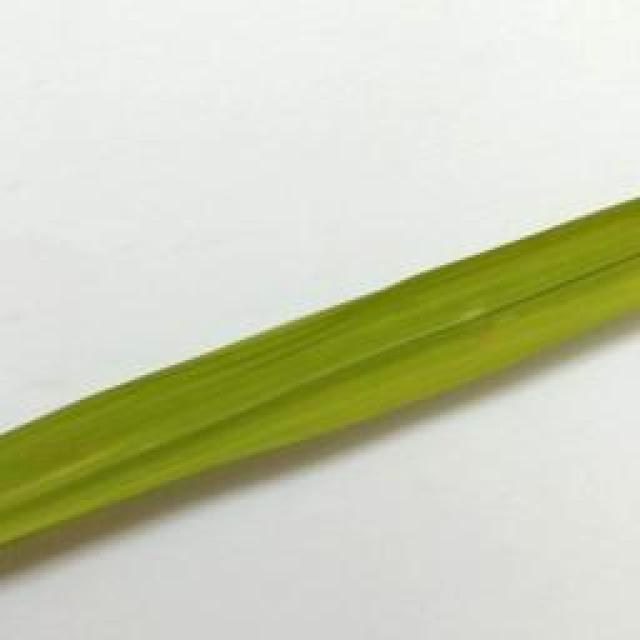Healthy-Plant: (0, 193, 640, 542)
